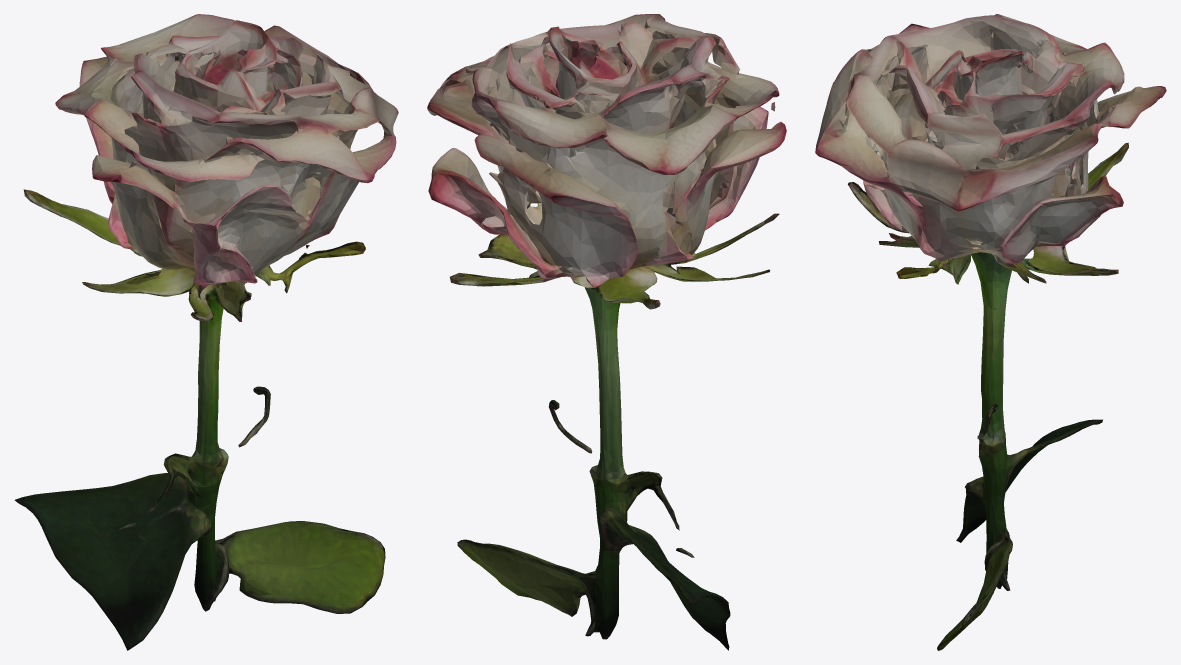
3 renders of one model, left to right at view 1: azimuth 30°, elevation 25°; view 2: azimuth 150°, elevation 25°; view 3: azimuth 270°, elevation 25°, orthographic. The views are drawn at different scales.
Parts seen in each view (by area): view 1: world; view 2: world; view 3: world.
Boxes of the visible parts, bbox=[...] form: world: bbox=[14, 14, 398, 650]; world: bbox=[427, 14, 786, 650]; world: bbox=[815, 14, 1166, 650].
Bounding box in the file's own units: 0.5541 × 0.9856 × 0.5564.
1 material, 1 textured.
